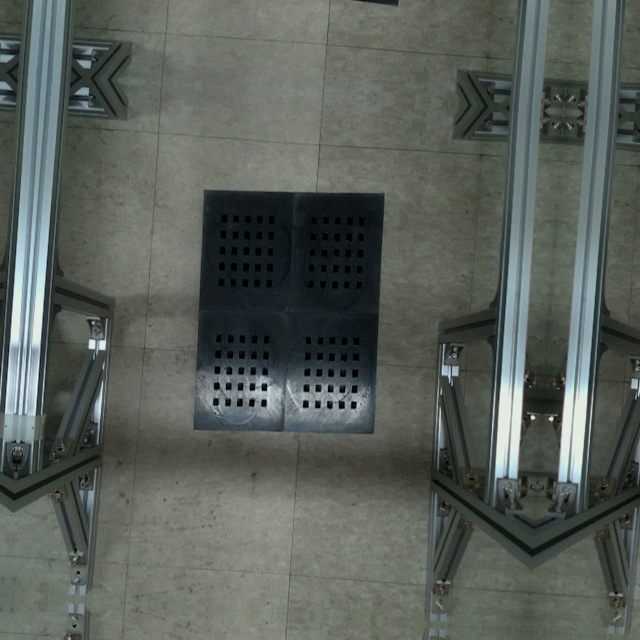pallet: (179, 175, 396, 450)
